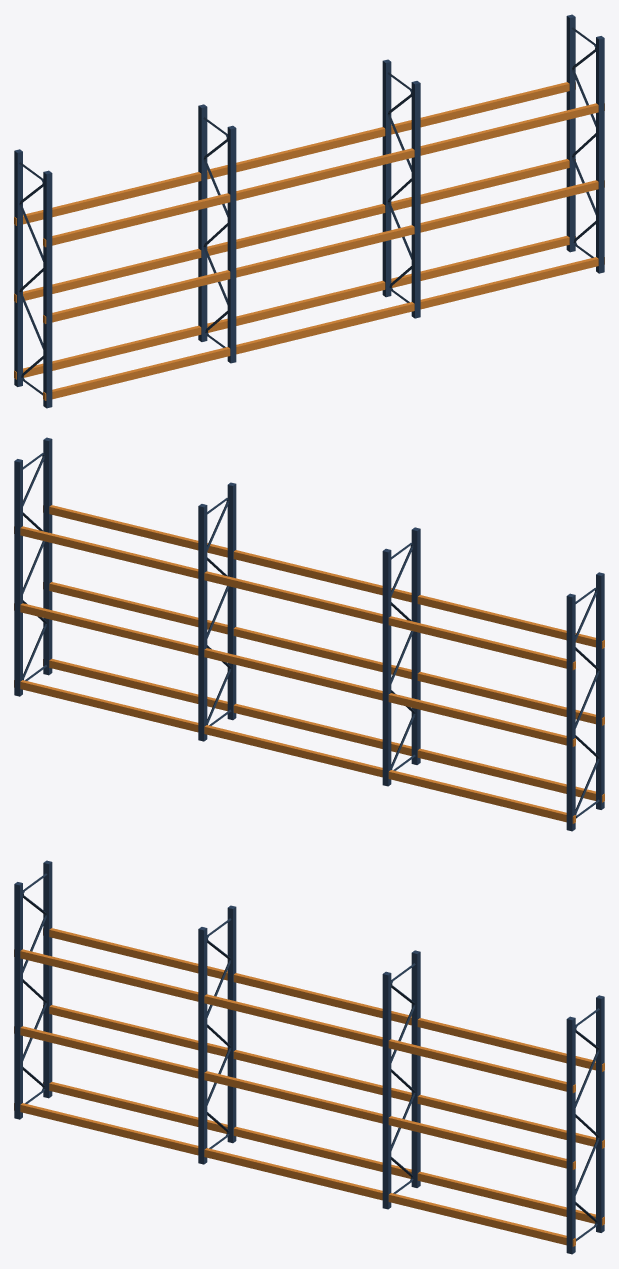
The model's file is rayonnage.glb.
3 views of the same model, one above another, from view 1: azimuth 30°, elevation 25°; view 2: azimuth 150°, elevation 25°; view 3: azimuth 330°, elevation 25° (orthographic).
Visible parts, largest first — view 1: beams, uprights, bracing; view 2: beams, uprights, bracing; view 3: beams, uprights, bracing.
Part boxes in pixels (<box>): beams: <box>14,82,604,400</box>; uprights: <box>14,14,604,408</box>; bracing: <box>19,27,595,395</box>; beams: <box>14,505,604,823</box>; uprights: <box>14,437,604,831</box>; bracing: <box>23,453,599,818</box>; beams: <box>14,928,604,1246</box>; uprights: <box>14,860,604,1254</box>; bracing: <box>23,873,599,1241</box>.
Size of the model in its own units: 8 by 3.2 by 0.8.
3 materials, 3 textured.
